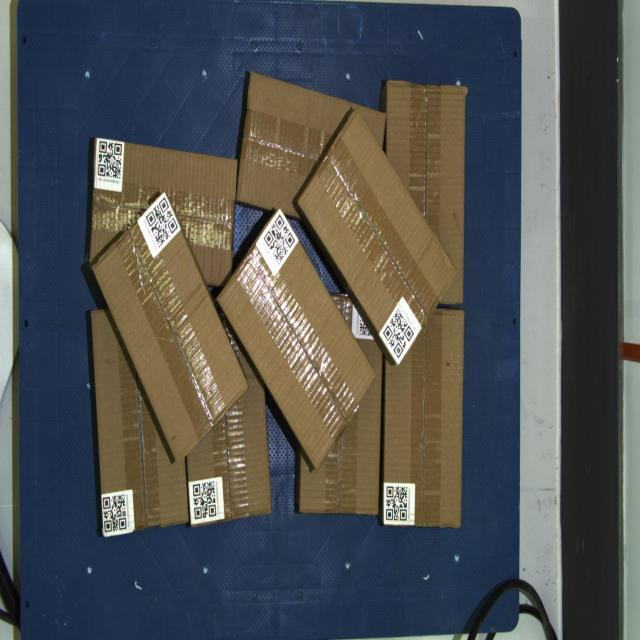box: (92, 190, 248, 464), (216, 206, 376, 469), (297, 106, 457, 368), (384, 308, 464, 528)
